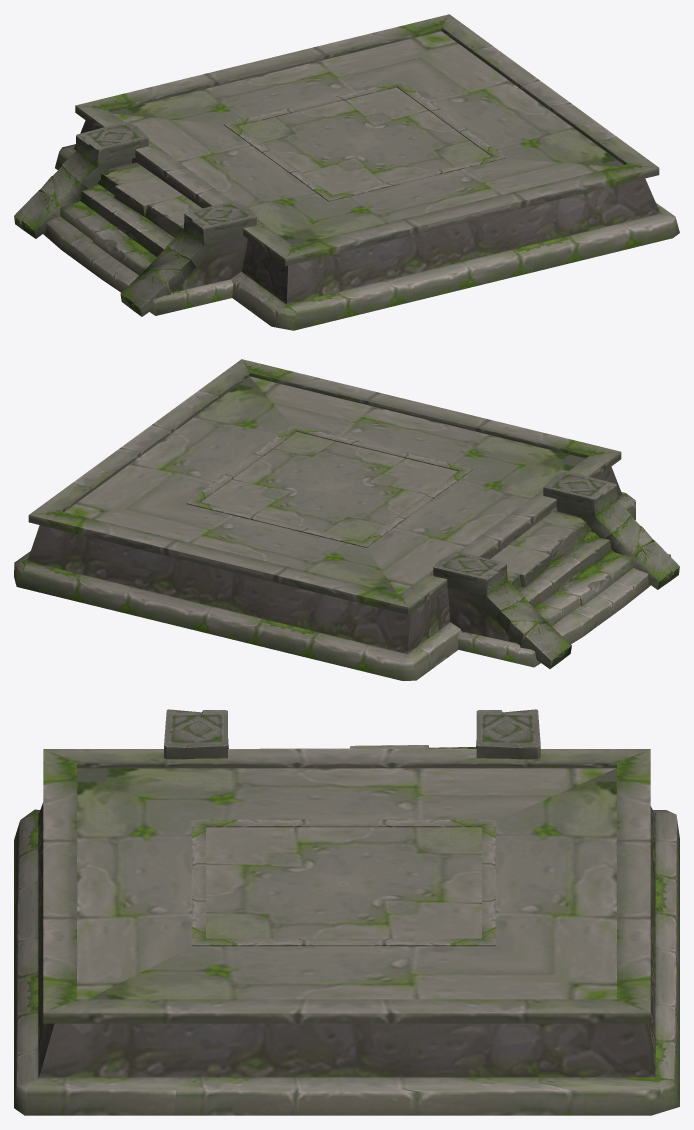
The model's file is shrine_jz001_08.FBX.
The picture shows the model from 3 angles, top to bottom: view 1: azimuth 30°, elevation 25°; view 2: azimuth 150°, elevation 25°; view 3: azimuth 270°, elevation 25°; orthographic projection. The views are drawn at different scales.
Visible parts, largest first — view 1: shrine_jz001_08; view 2: shrine_jz001_08; view 3: shrine_jz001_08.
Part boxes in pixels (x1,y1,x2,y2): shrine_jz001_08: (14, 14, 679, 330); shrine_jz001_08: (14, 359, 679, 680); shrine_jz001_08: (14, 709, 679, 1115).
Size of the model in its own units: 577 by 83.14 by 469.
2 materials, 2 textured.
